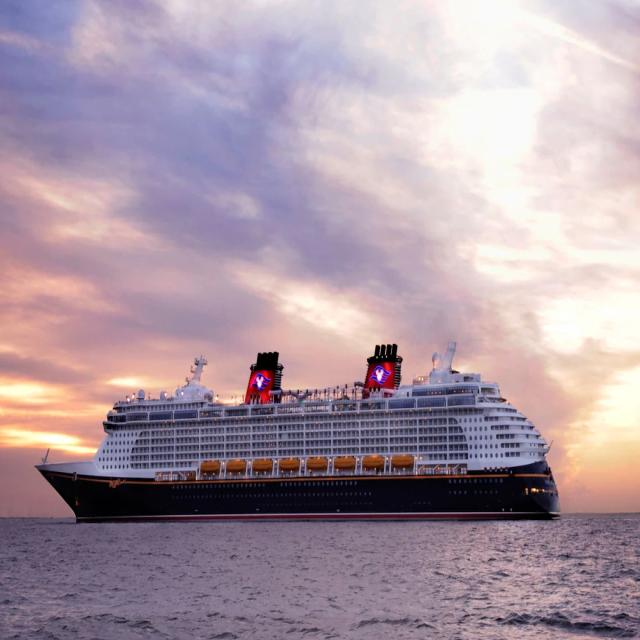passenger ship: (35, 337, 562, 521)
